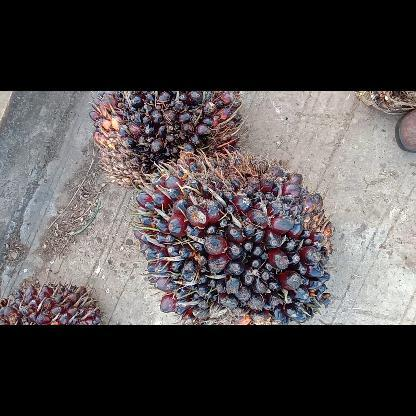TBS mentah: (134, 152, 334, 324), (88, 91, 240, 190), (0, 283, 102, 323)
